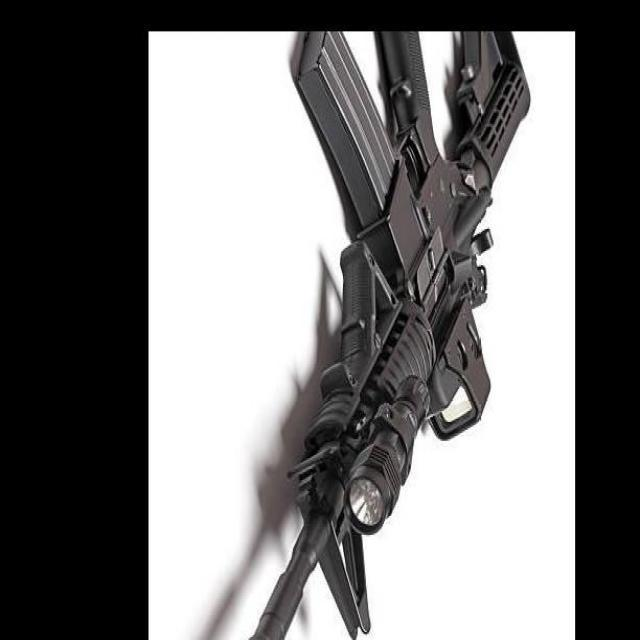weapon: (249, 30, 531, 640)
